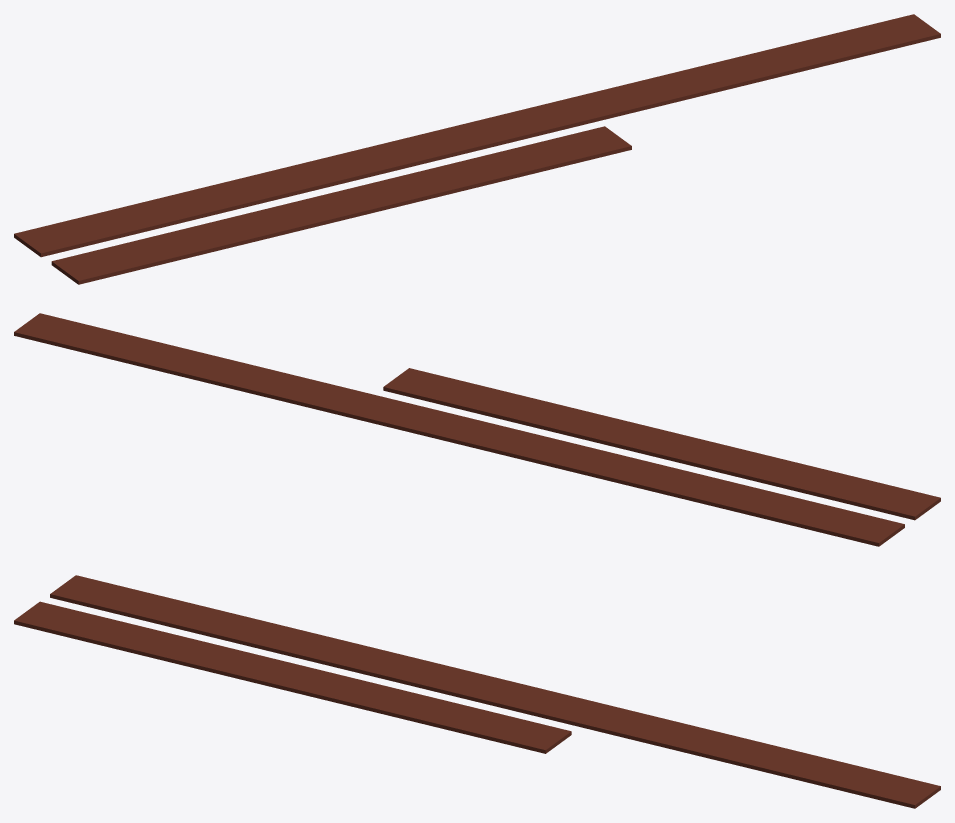
File: ceiling-plank-253x20_ipe_v0.1.dae
3 views of the same model, one above another, from view 1: azimuth 30°, elevation 25°; view 2: azimuth 150°, elevation 25°; view 3: azimuth 330°, elevation 25° (orthographic). The views are drawn at different scales.
Parts seen in each view (by area): view 1: IB-40508_ceiling-plank-253x20_ipe_4880mm, IB-40500_ceiling-plank-253x20_ipe_3000mm; view 2: IB-40508_ceiling-plank-253x20_ipe_4880mm, IB-40500_ceiling-plank-253x20_ipe_3000mm; view 3: IB-40508_ceiling-plank-253x20_ipe_4880mm, IB-40500_ceiling-plank-253x20_ipe_3000mm.
Part boxes in pixels (bbox=[...]): IB-40508_ceiling-plank-253x20_ipe_4880mm: bbox=[14, 14, 940, 257]; IB-40500_ceiling-plank-253x20_ipe_3000mm: bbox=[51, 126, 631, 284]; IB-40508_ceiling-plank-253x20_ipe_4880mm: bbox=[14, 313, 904, 546]; IB-40500_ceiling-plank-253x20_ipe_3000mm: bbox=[383, 368, 940, 520]; IB-40508_ceiling-plank-253x20_ipe_4880mm: bbox=[50, 575, 940, 808]; IB-40500_ceiling-plank-253x20_ipe_3000mm: bbox=[14, 601, 571, 753].
Bounding box in the file's own units: 4880 × 606 × 20.
